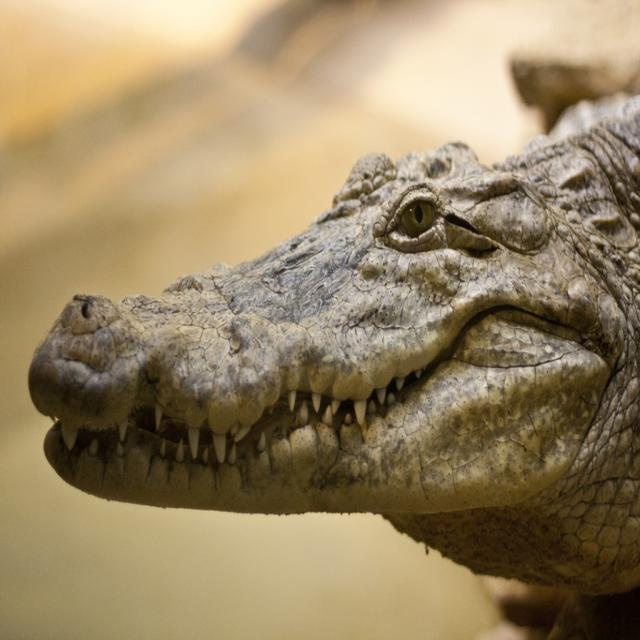crocodile: (13, 82, 639, 625)
